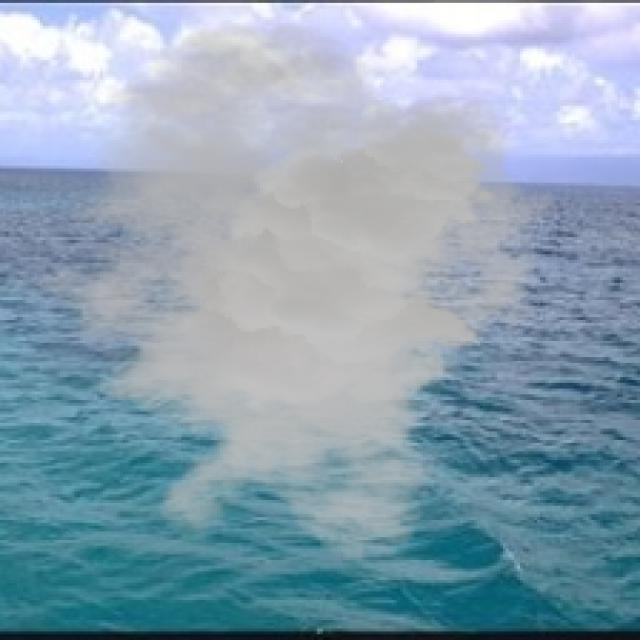Smoke: (9, 20, 558, 563)
